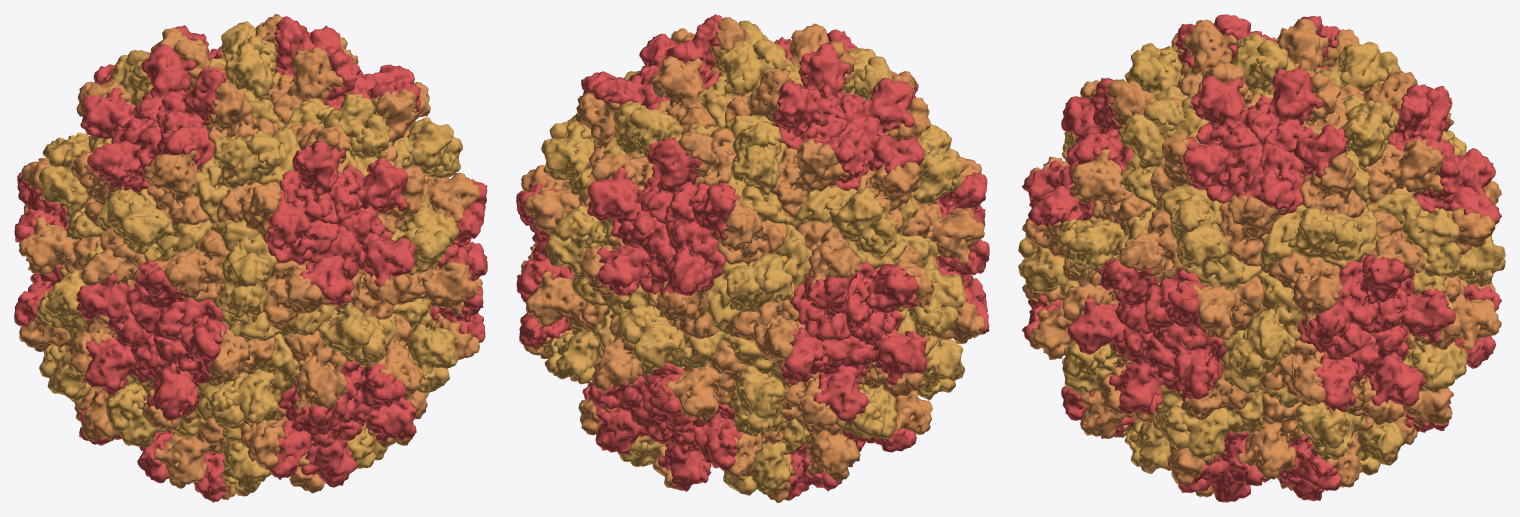
Rendered from 2TBV_lower.glb.
3 renders of one model, left to right at view 1: azimuth 30°, elevation 25°; view 2: azimuth 150°, elevation 25°; view 3: azimuth 270°, elevation 25°, orthographic.
Size of the model in its own units: 348 by 348 by 348.
